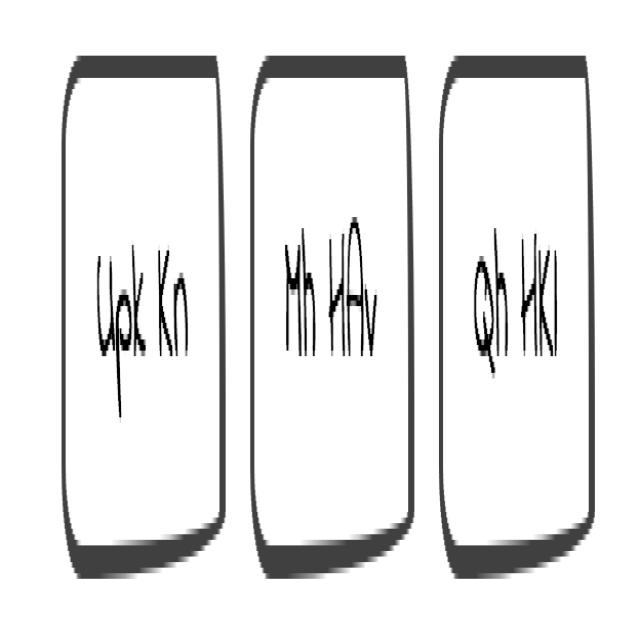Navigation Bar: (52, 39, 601, 607)
